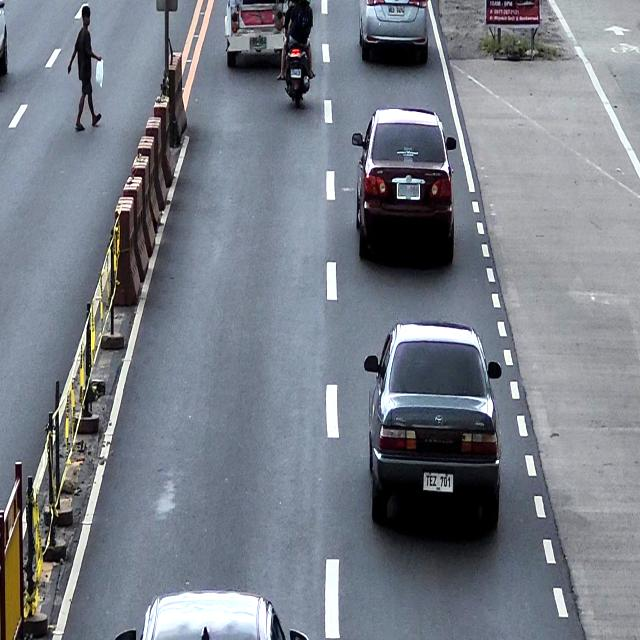Car: (364, 321, 502, 532), (352, 107, 456, 266), (114, 590, 309, 640), (224, 0, 290, 67), (358, 0, 428, 63)
License-Plate: (422, 469, 454, 493), (396, 182, 421, 198), (248, 35, 268, 51), (388, 4, 406, 16), (290, 69, 303, 79)
Motorcycle: (282, 32, 313, 108)
